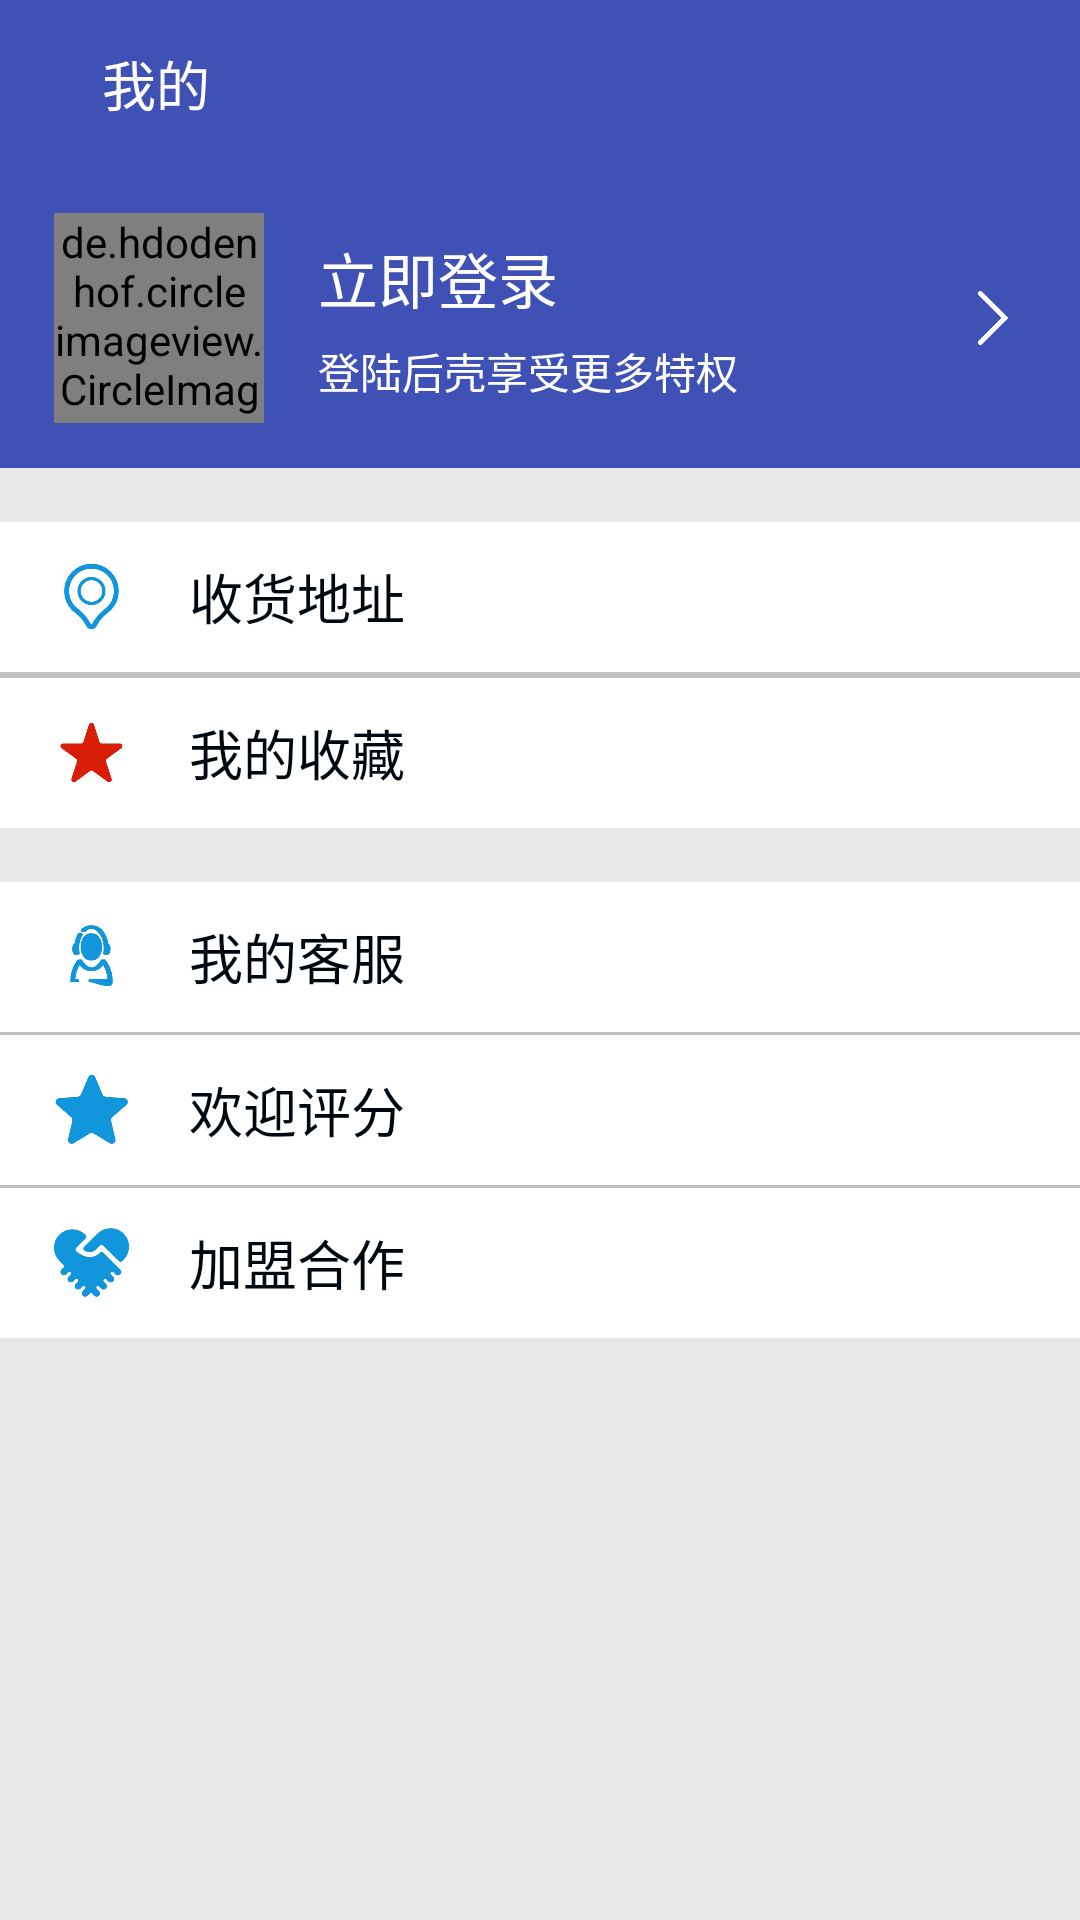

Screen size 1080x1920. Icon name, then its center in pixels as (x,y):
arrow: (993,318)
dizhi: (91,596)
hezuo: (91,1262)
kefu: (91,955)
pingfen: (91,1109)
shoucang: (91,752)
